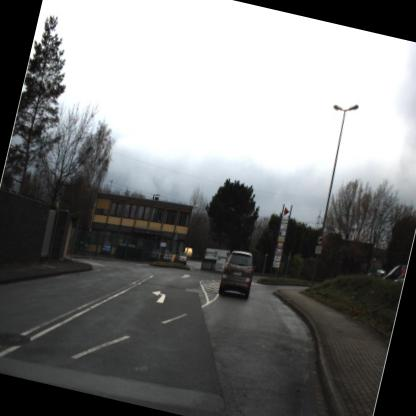prohibitory: (314, 231, 326, 247)
